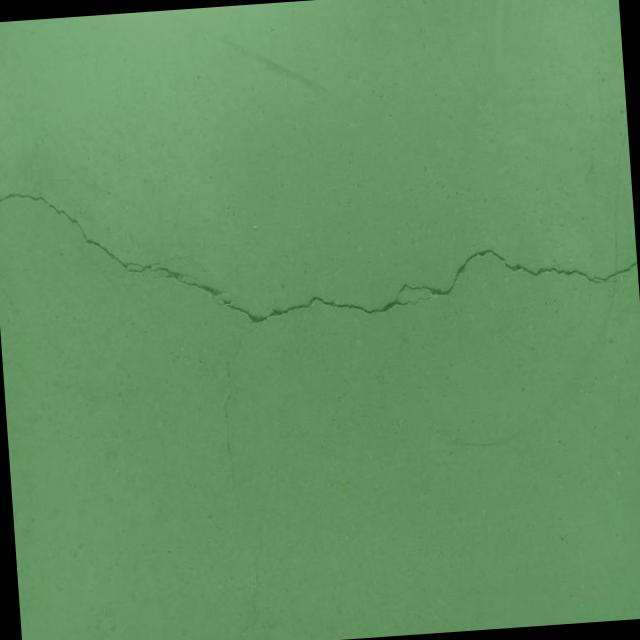crack: (0, 147, 640, 526), (232, 517, 269, 640)
